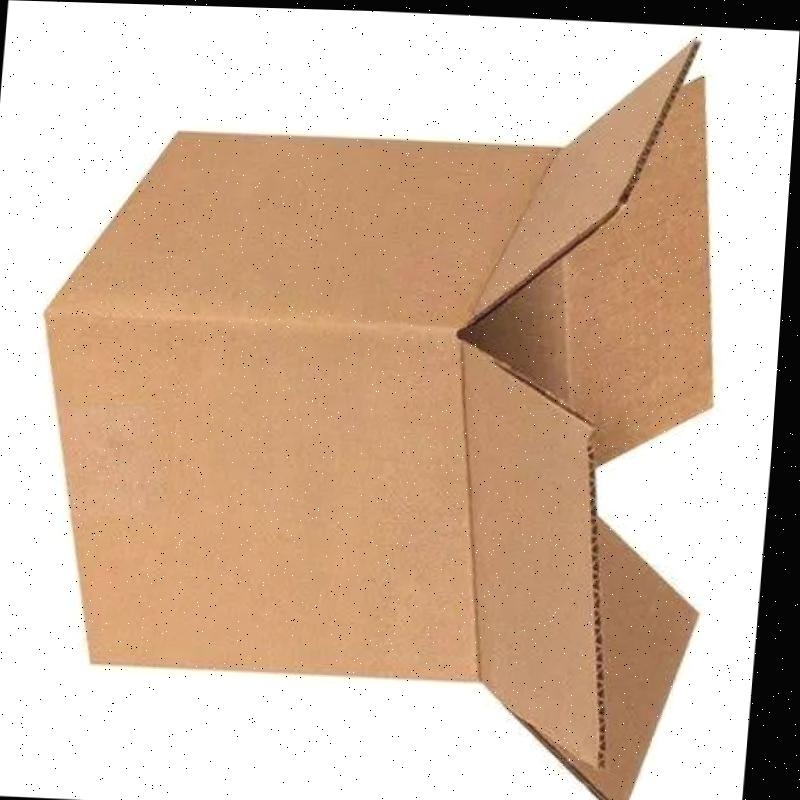cardboard: (40, 45, 712, 800)
